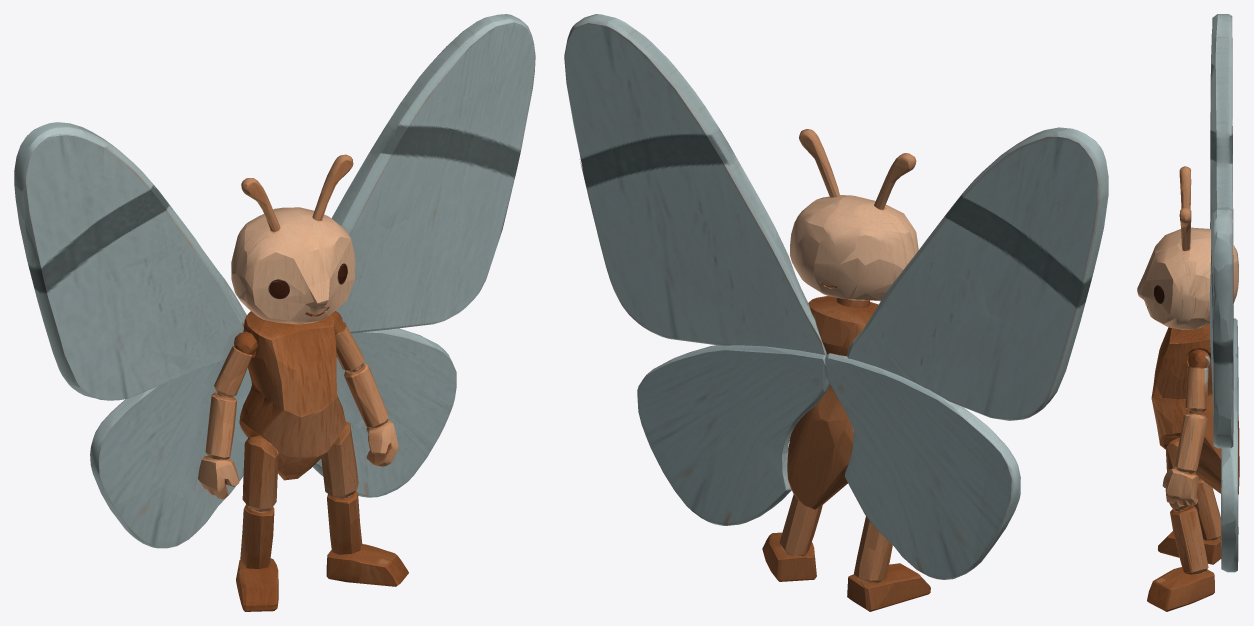
The model's file is moth.glb.
3 renders of one model, left to right at view 1: azimuth 30°, elevation 25°; view 2: azimuth 150°, elevation 25°; view 3: azimuth 270°, elevation 25°, orthographic. The views are drawn at different scales.
Size of the model in its own units: 1.9 by 1.78 by 0.3653.
Materials: 1 (1 with a texture image).
